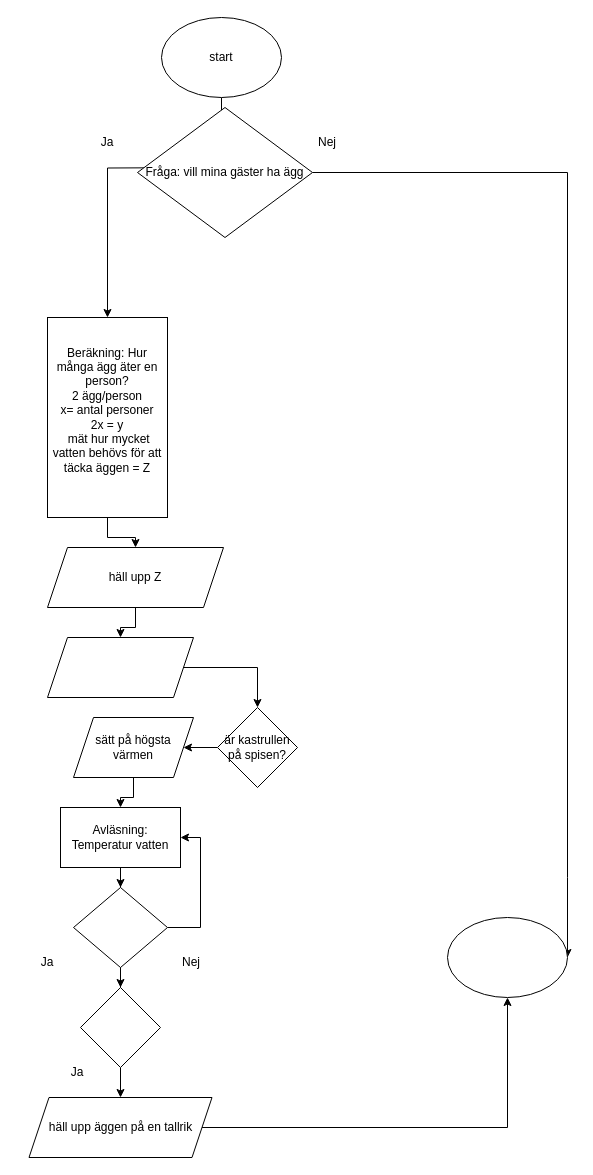
This 593x1175 diagram has some shape labels left out. The shapes that lost their labels are listed below. From the top down, each one's centre as x and y in pixels, then its label:
At point 120,667: "ställ kastrullen på spisen".
At point 120,927: "Kokar vattnet?".
At point 507,957: "Slut".
At point 120,1027: "Har det gått 8 minuter?".
